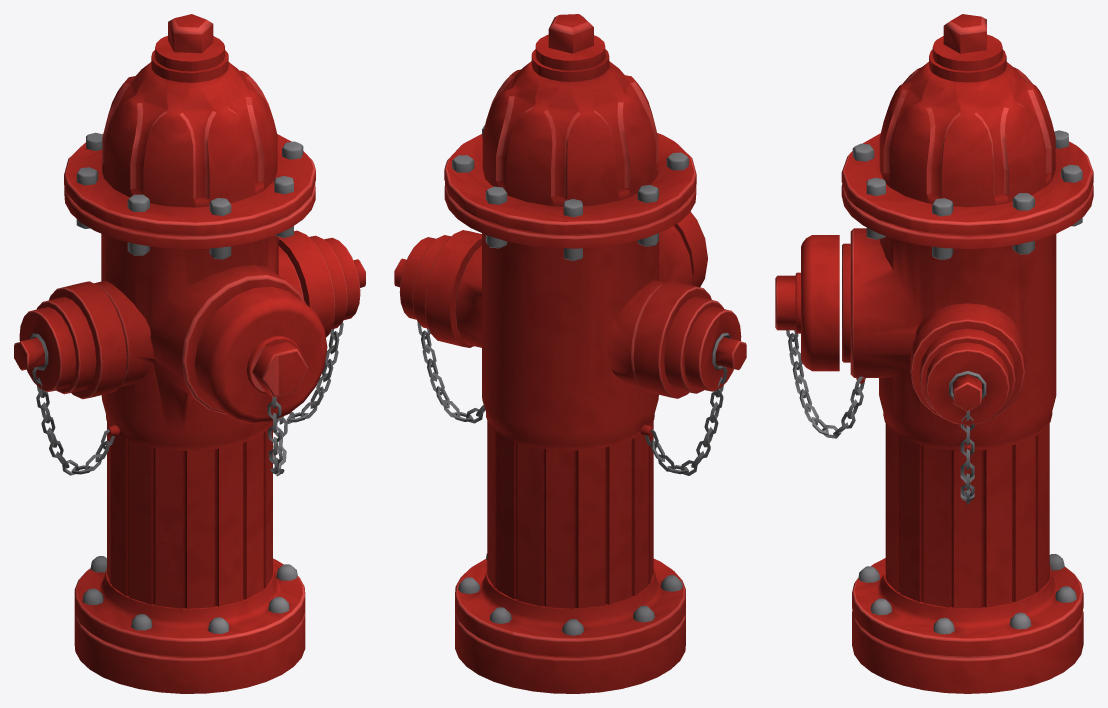
File: houdini_fire_hydrant_prop.glb
3 views of the same model, side by side, from view 1: azimuth 30°, elevation 25°; view 2: azimuth 150°, elevation 25°; view 3: azimuth 270°, elevation 25° (orthographic).
Parts seen in each view (by area): view 1: LOD0; view 2: LOD0; view 3: LOD0.
Boxes of the visible parts, left/top/right/bottom form: LOD0: left=14, top=14, right=365, bottom=693; LOD0: left=394, top=14, right=746, bottom=693; LOD0: left=775, top=14, right=1093, bottom=693.
Size of what is drawn, in the model's own units: 0.457 by 0.803 by 0.3715.
2 materials, 2 textured.
